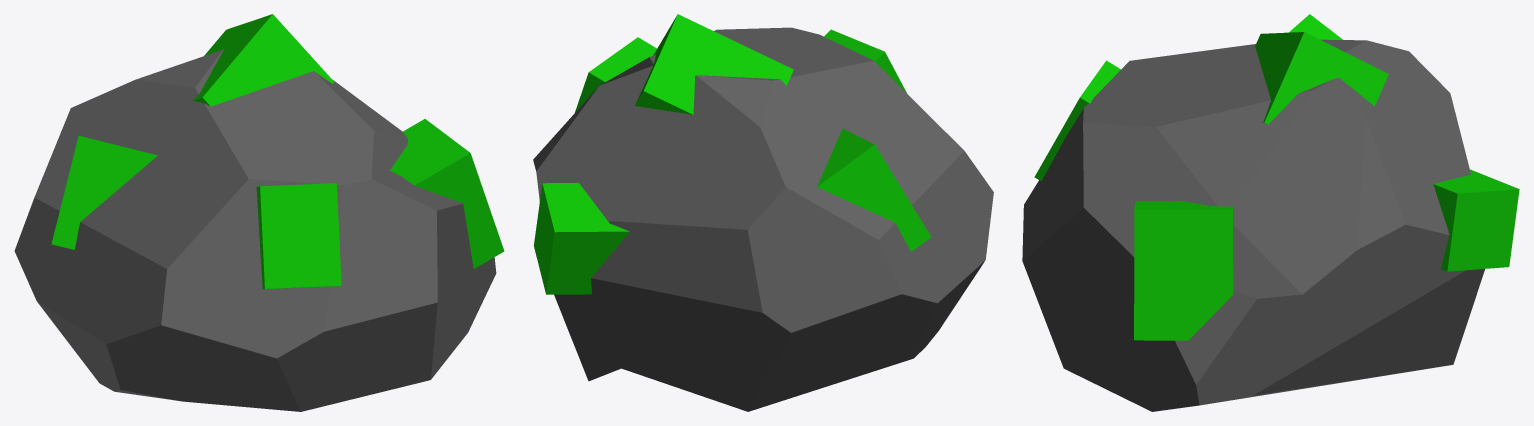
File: emerald.fbx
The picture shows the model from 3 angles, left to right: view 1: azimuth 30°, elevation 25°; view 2: azimuth 150°, elevation 25°; view 3: azimuth 270°, elevation 25°; orthographic projection. The views are drawn at different scales.
Visible parts, largest first — view 1: Sphere, Cube.003, Cube.001, Cube, Cube.004; view 2: Sphere, Cube.002, Cube, Cube.004, Cube.001, Cube.003; view 3: Sphere, Cube.001, Cube.002, Cube, Cube.003, Cube.004.
Part boxes in pixels (bbox=[...]): Sphere: bbox=[14, 49, 496, 411]; Cube.003: bbox=[256, 183, 341, 289]; Cube.001: bbox=[390, 119, 504, 268]; Cube: bbox=[193, 14, 333, 106]; Cube.004: bbox=[51, 135, 157, 249]; Sphere: bbox=[533, 27, 993, 411]; Cube.002: bbox=[534, 183, 629, 294]; Cube: bbox=[635, 14, 793, 114]; Cube.004: bbox=[817, 128, 930, 251]; Cube.001: bbox=[575, 37, 656, 112]; Cube.003: bbox=[823, 29, 906, 92]; Sphere: bbox=[1022, 39, 1484, 411]; Cube.001: bbox=[1134, 201, 1233, 340]; Cube.002: bbox=[1433, 169, 1519, 271]; Cube: bbox=[1255, 32, 1388, 124]; Cube.003: bbox=[1034, 60, 1120, 181]; Cube.004: bbox=[1289, 14, 1342, 39].
Size of the model in its own units: 675 by 472 by 655.
